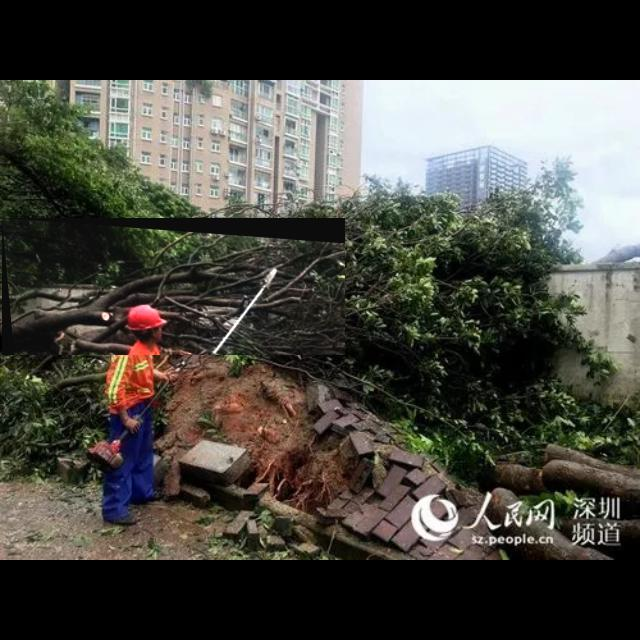Fallen Tree: (2, 218, 346, 356)
